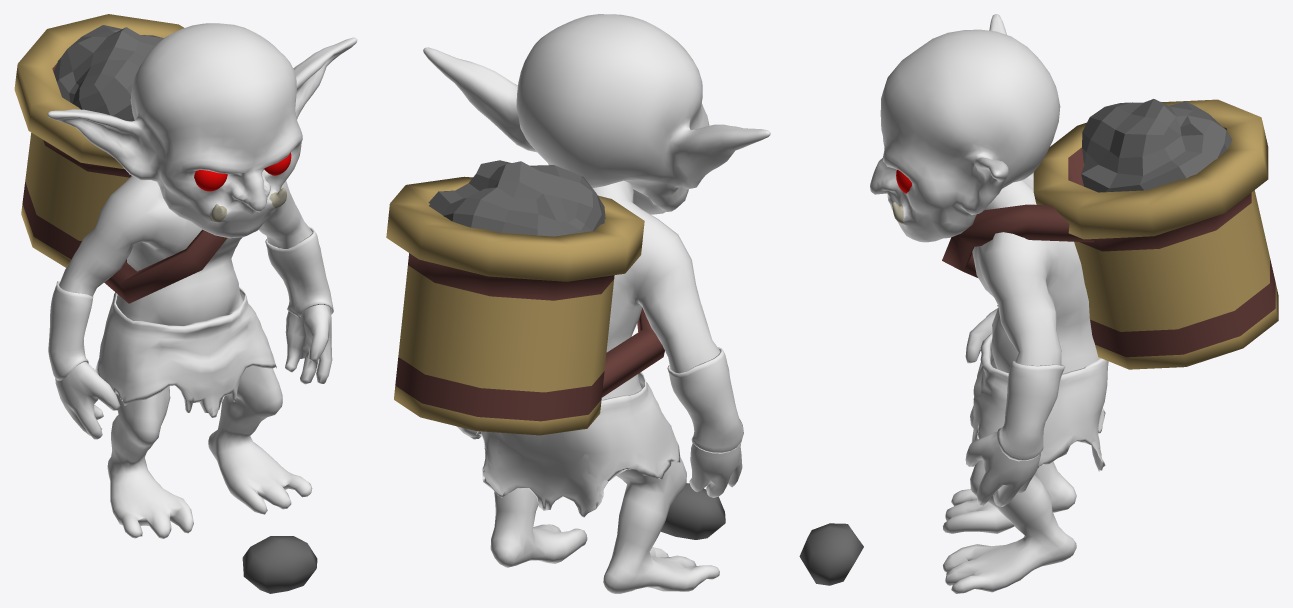
Rendered from Goblin_Sapper.fbx.
3 views of the same model, side by side, from view 1: azimuth 30°, elevation 25°; view 2: azimuth 150°, elevation 25°; view 3: azimuth 270°, elevation 25° (orthographic). The views are drawn at different scales.
Visible parts, largest first — view 1: Goblin_Sapper; view 2: Goblin_Sapper; view 3: Goblin_Sapper.
Boxes of the visible parts, x1=… form: Goblin_Sapper: x1=14, y1=14, x2=357, y2=593; Goblin_Sapper: x1=386, y1=14, x2=770, y2=593; Goblin_Sapper: x1=799, y1=14, x2=1278, y2=593.
Bounding box in the file's own units: 1.71 × 2.66 × 2.16.
